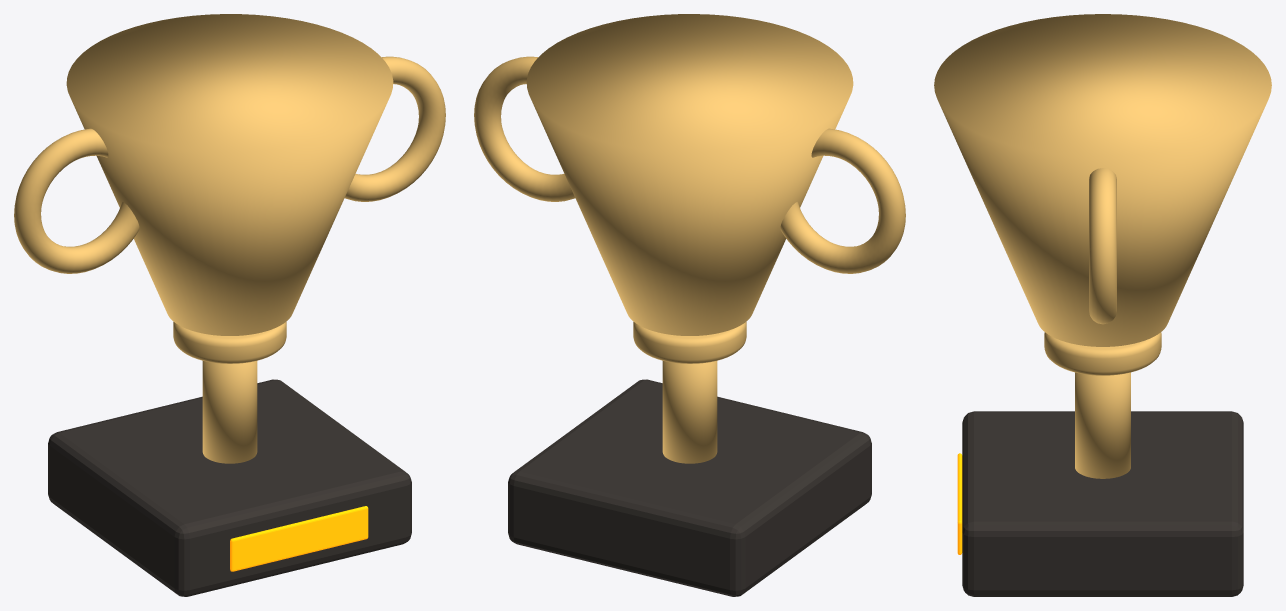
File: trophy.glb
The picture shows the model from 3 angles, left to right: view 1: azimuth 30°, elevation 25°; view 2: azimuth 150°, elevation 25°; view 3: azimuth 270°, elevation 25°; orthographic projection. The views are drawn at different scales.
Visible parts, largest first — view 1: Cup, Base, HandleL, Stem, HandleR, Plate, Knot; view 2: Cup, Base, HandleL, Stem, HandleR, Knot; view 3: Cup, Base, Stem, HandleR, Knot, Plate.
Part boxes in pixels (x1,y1,x2,y2): Cup: (66,14,393,335); Base: (48,379,411,596); HandleL: (14,128,139,273); Stem: (202,361,257,463); HandleR: (345,56,445,201); Plate: (230,506,368,571); Knot: (173,322,286,363); Cup: (526,14,853,335); Base: (508,379,871,596); HandleL: (780,128,905,273); Stem: (662,361,717,463); HandleR: (474,56,574,201); Knot: (633,322,746,363); Cup: (934,14,1271,346); Base: (962,411,1243,596); Stem: (1075,372,1130,478); HandleR: (1089,168,1116,324); Knot: (1044,332,1161,375); Plate: (957,453,962,554).
Size of the model in its own units: 2.18 by 2.15 by 1.44.
